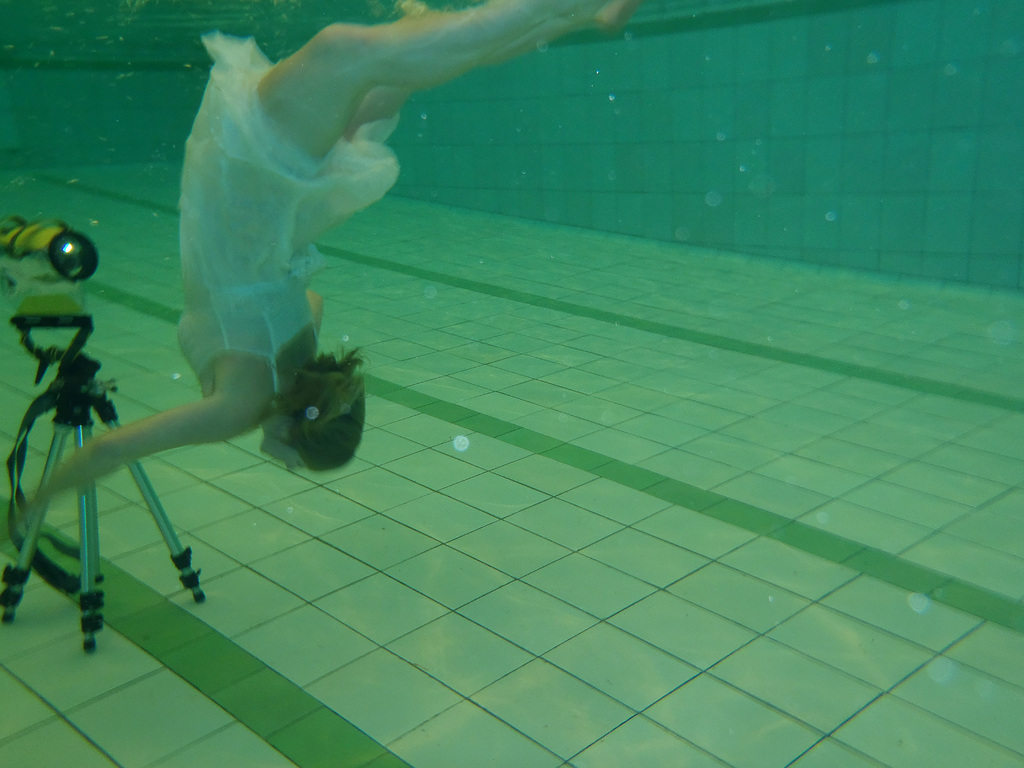Person: (0, 0, 641, 542)
